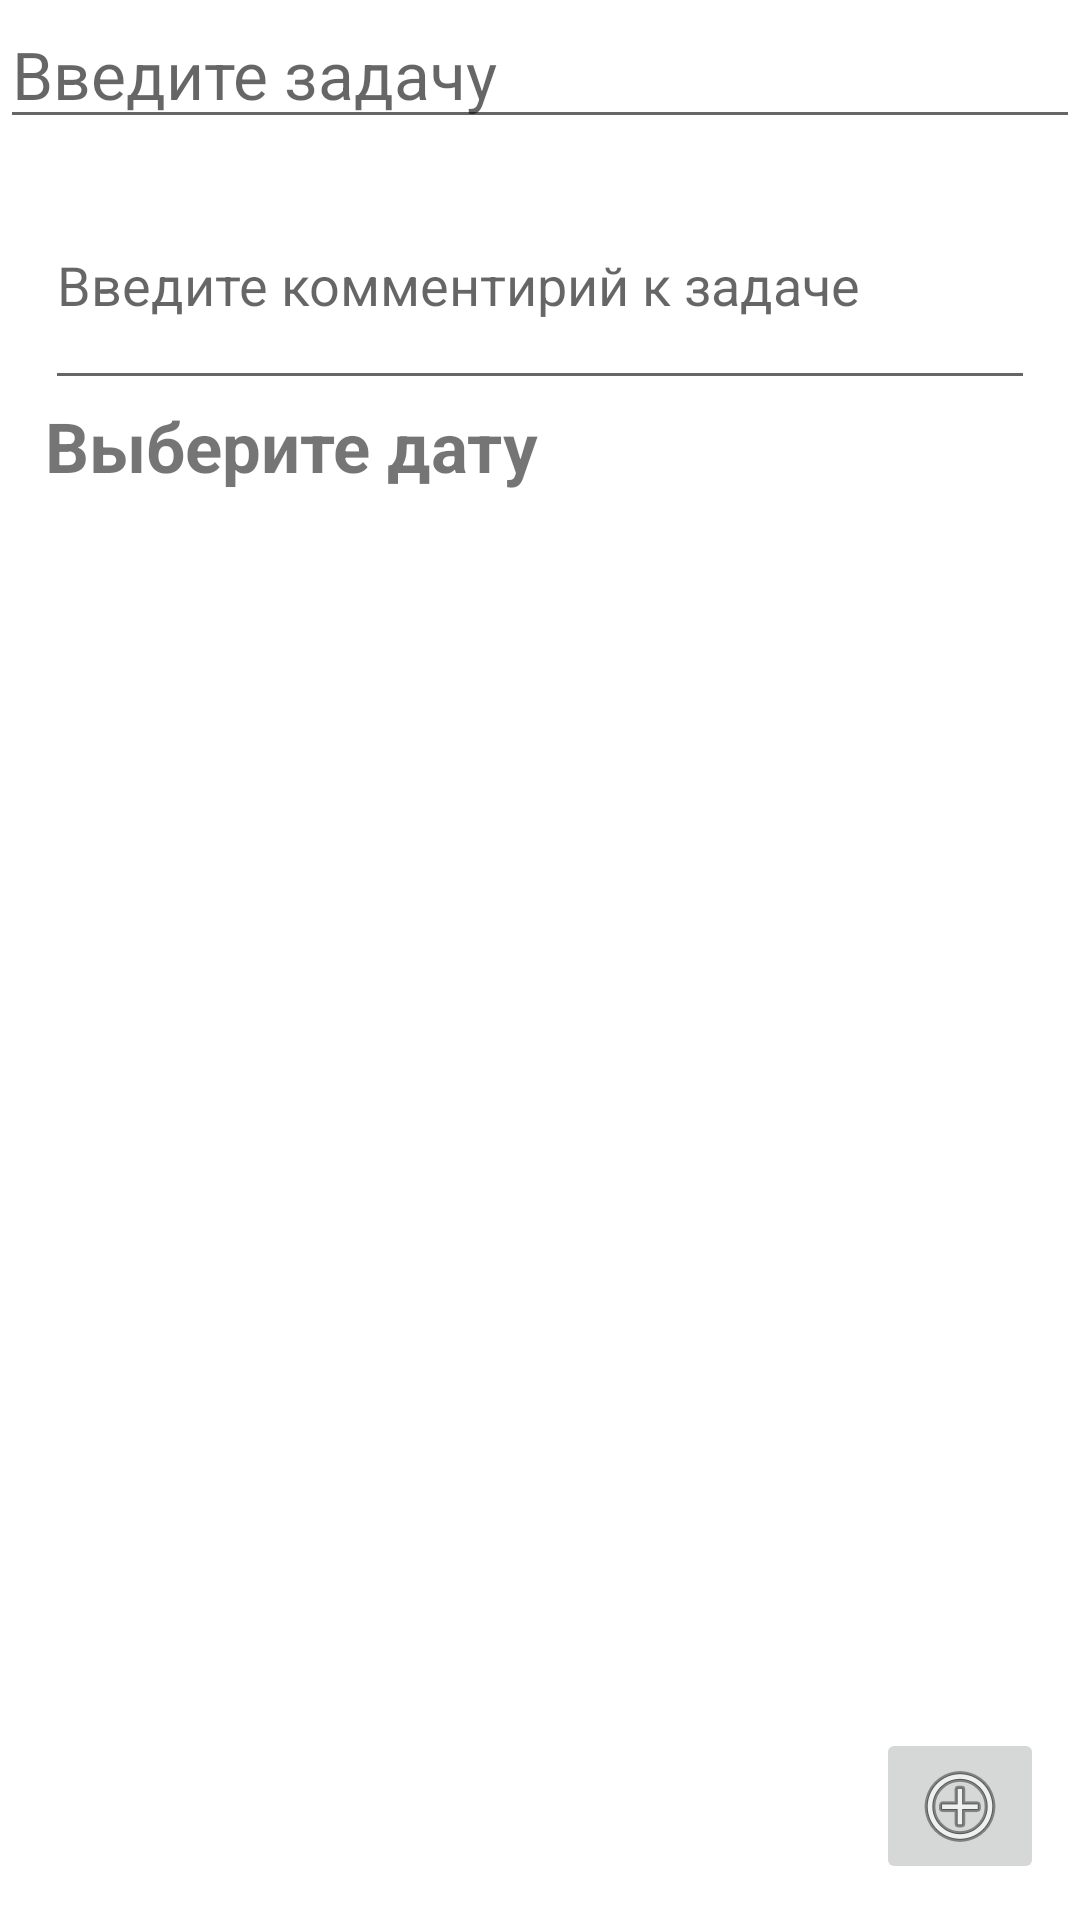

Icons on this 1080px×1920px Android screen, each with the point to tap as point (x, y):
add: point (960, 1806)
